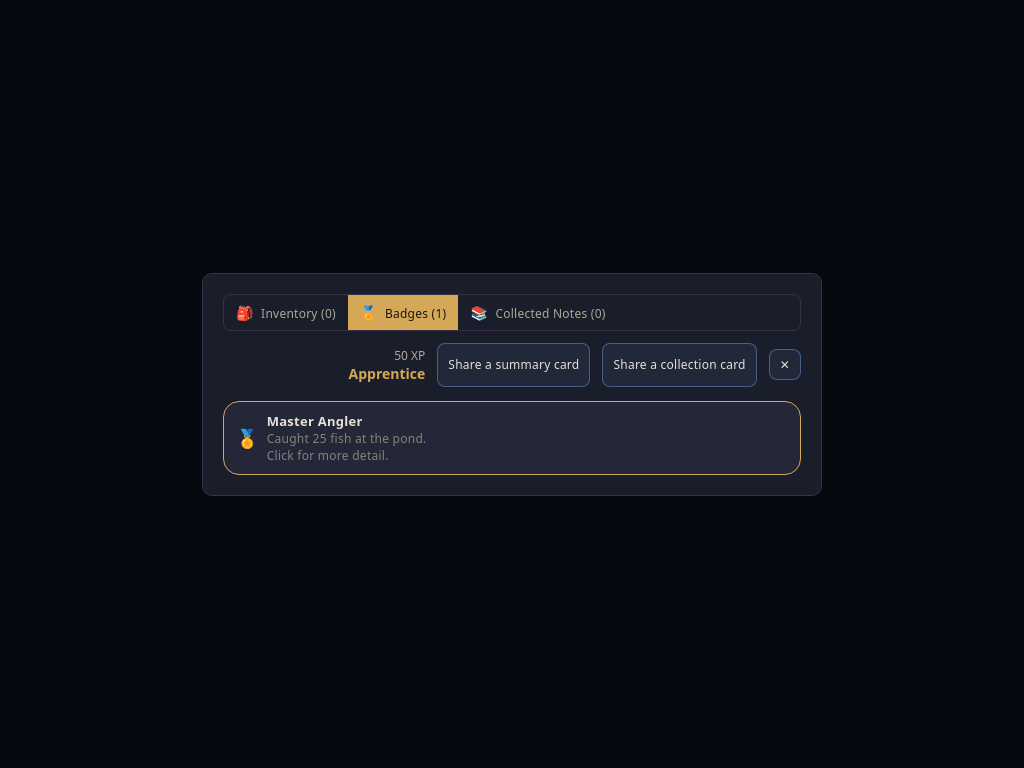
it: every canonical badge is named, and no badge is named by its id › explains FshMasterAngler as a catch rather than as a dungeon milestone
Click the button that starts with "Master Angler" at (315,420), box x1=223 y1=400 x2=801 y2=474
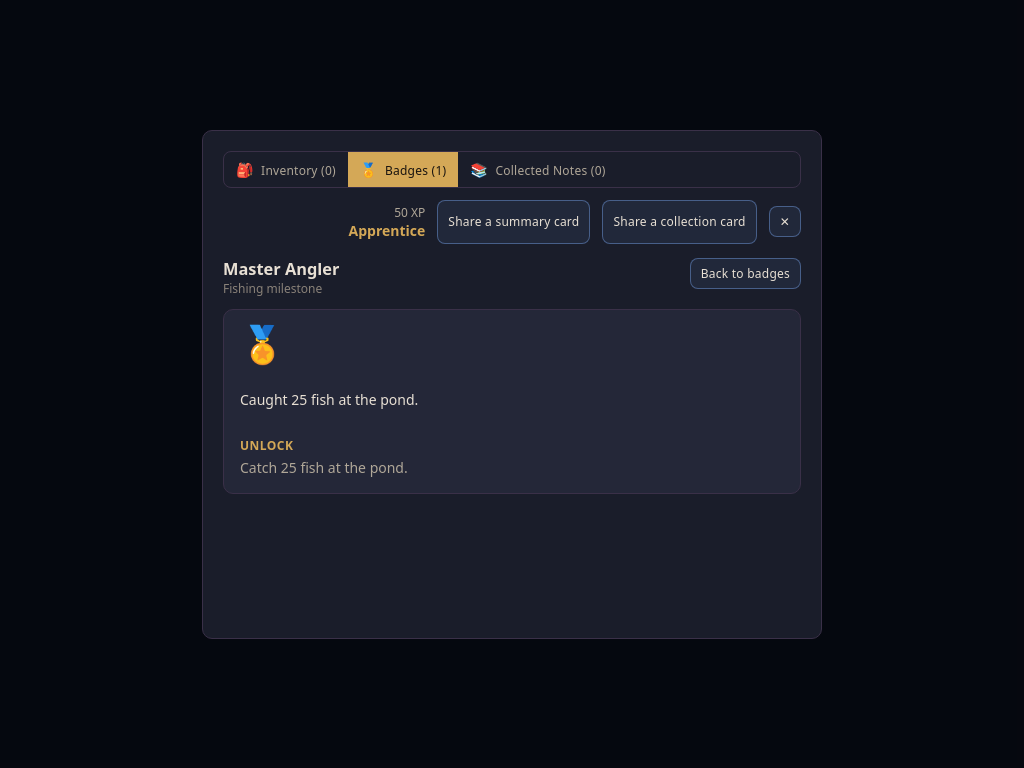
Expected: the text "Caught 25 fish at the pond." is shown, x1=240 y1=390 x2=418 y2=408
Now the text "Fishing milestone" is shown, box x1=223 y1=280 x2=339 y2=296
Now the text "Catch 25 fish at the pond." is shown, box x1=240 y1=458 x2=408 y2=476
